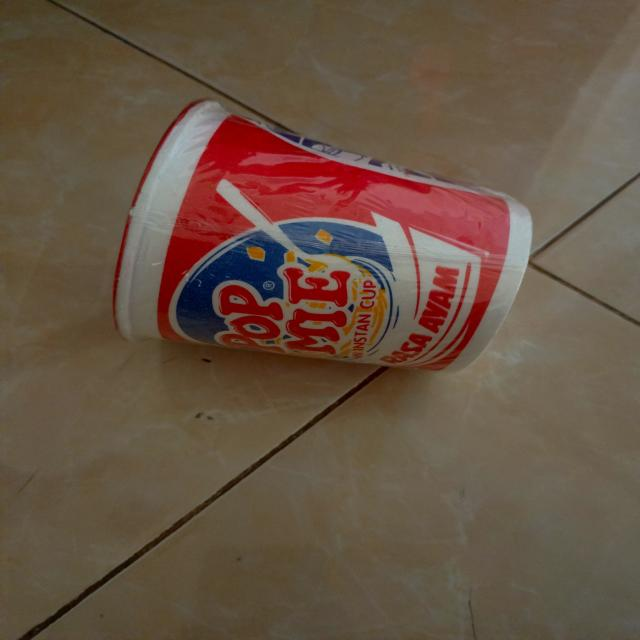popmie-rasa-ayam: (111, 93, 533, 376)
